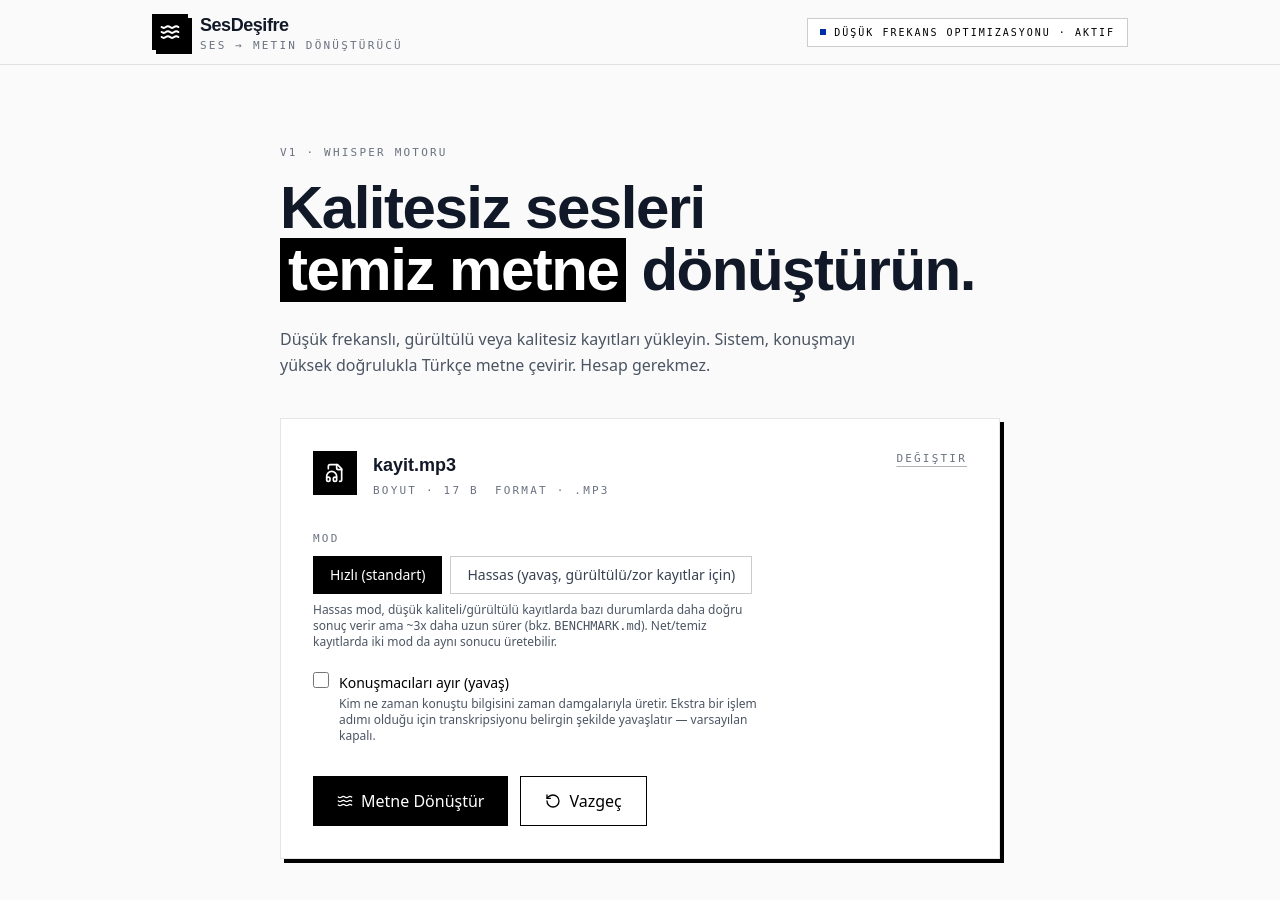
Test: <Transcriber /> › backend başarılı yanıt döndüğünde sonuç panelini gösterir
Earlier steps of the test are not shown.
Click the button with test id "start-transcribe-btn". click: (411, 800)
box: [313,776,508,826]
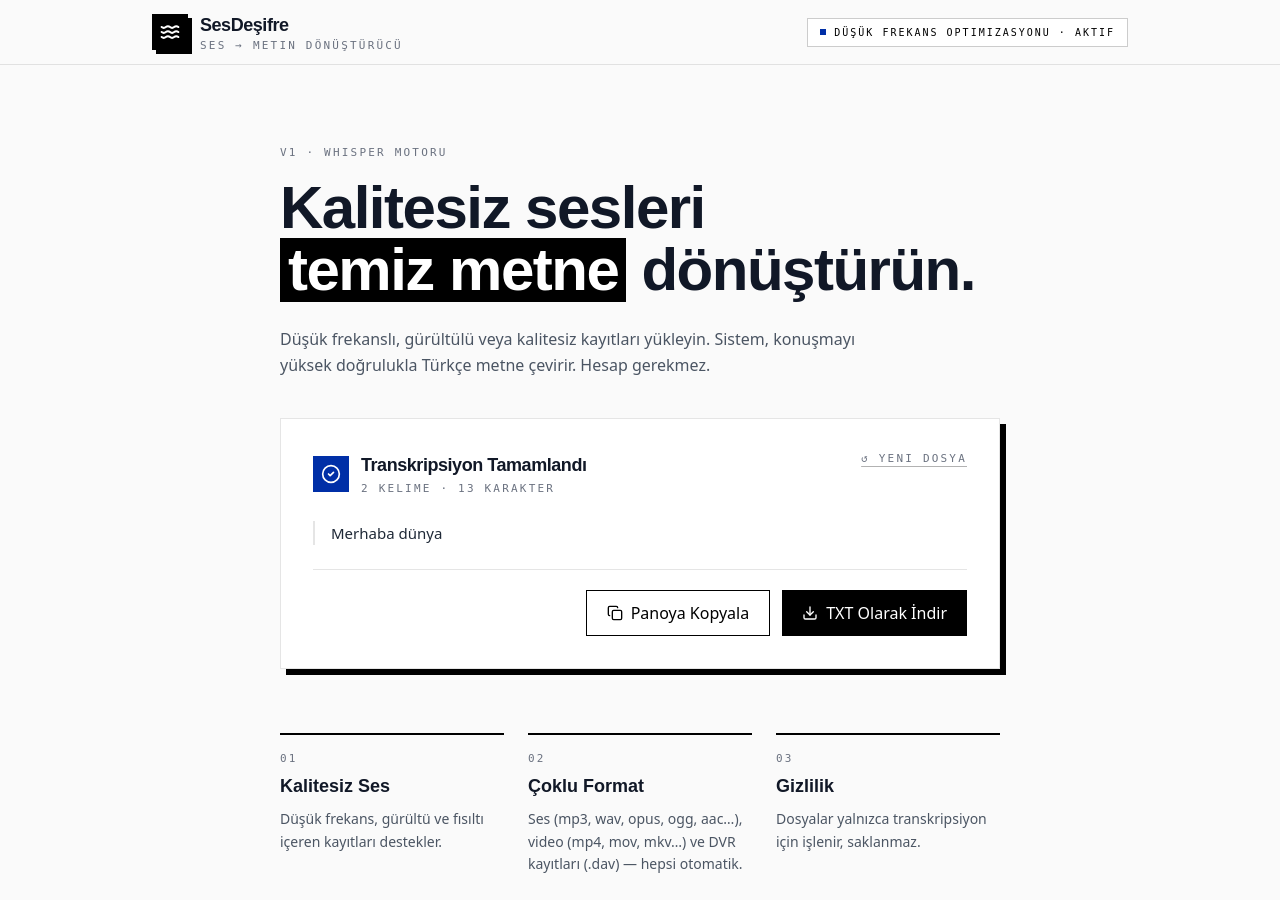
Result: the element with test id "result-panel" is shown at [280,418,1000,669]
Result: the text with test id "transcription-text" reads "Merhaba dünya" at [331,523,442,543]
